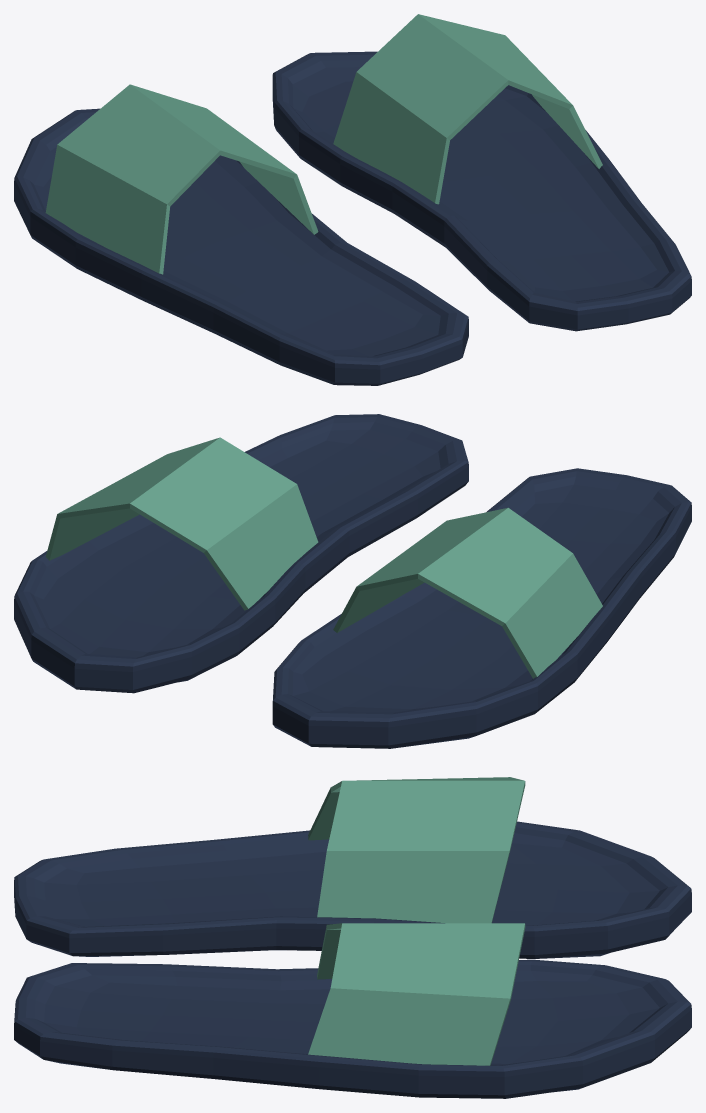
The model's file is tapki.fbx.
The picture shows the model from 3 angles, top to bottom: view 1: azimuth 30°, elevation 25°; view 2: azimuth 150°, elevation 25°; view 3: azimuth 270°, elevation 25°; orthographic projection.
Visible parts, largest first — view 1: Cube.041, Cube.052; view 2: Cube.041, Cube.052; view 3: Cube.041, Cube.052.
Part boxes in pixels (bbox=[...]): Cube.041: bbox=[14, 51, 691, 385]; Cube.052: bbox=[45, 14, 602, 274]; Cube.041: bbox=[14, 414, 691, 748]; Cube.052: bbox=[45, 437, 602, 678]; Cube.041: bbox=[14, 821, 691, 1098]; Cube.052: bbox=[308, 777, 525, 1065].
Bounding box in the file's own units: 24.89 × 5.98 × 28.41.
